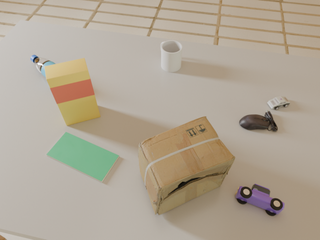book: (47, 132, 119, 182)
bottle: (31, 55, 55, 77)
box: (138, 116, 235, 215), (45, 58, 100, 125)
cup: (161, 40, 182, 72)
mouse: (239, 110, 278, 131)
toy_car: (235, 184, 285, 216), (267, 96, 290, 109)
